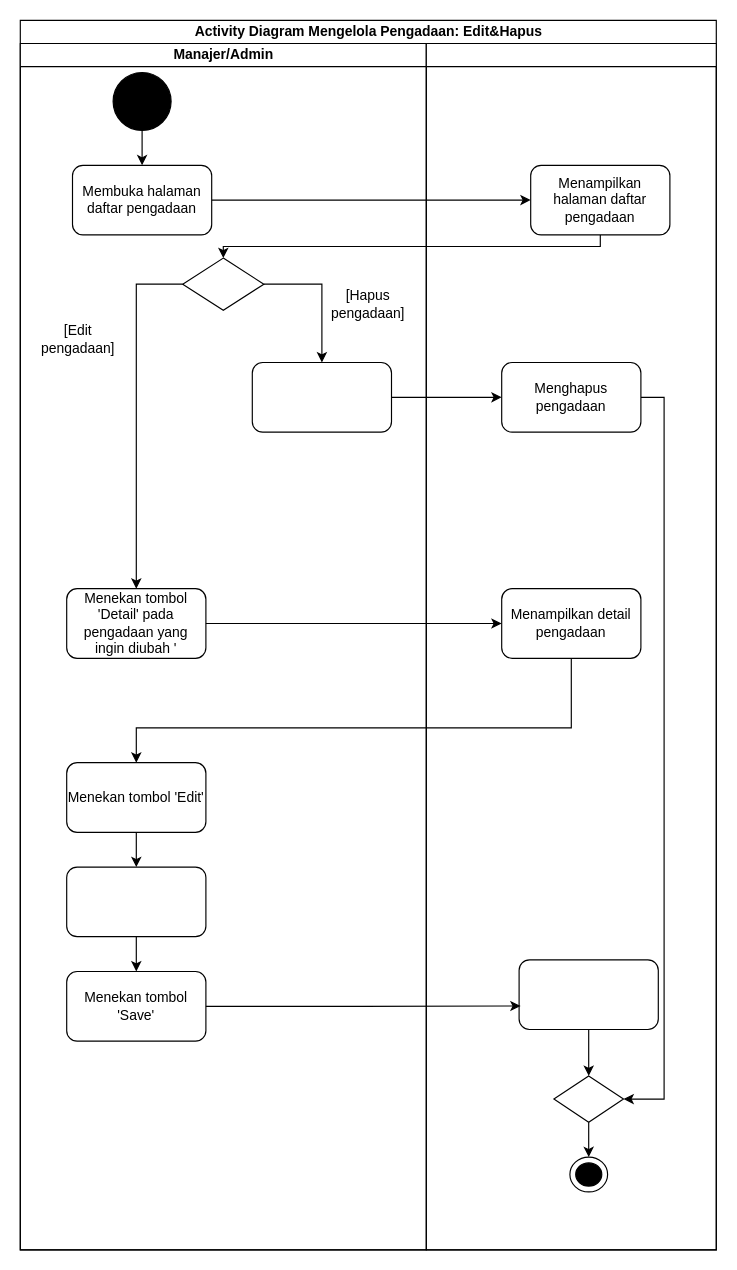
The diagram is 737 pixels wide and 1270 high, and some of its shapes have lost their labels. The box of each missing label's shape, as (x1, y1, x2, y2) in pixels:
Menekan tombol 'Hapus: (251, 361, 392, 432)
Mengubah field yang ingin diedit: (66, 866, 206, 937)
Mengubah pengadaan: (518, 959, 658, 1030)
Sistem: (425, 42, 716, 1250)
